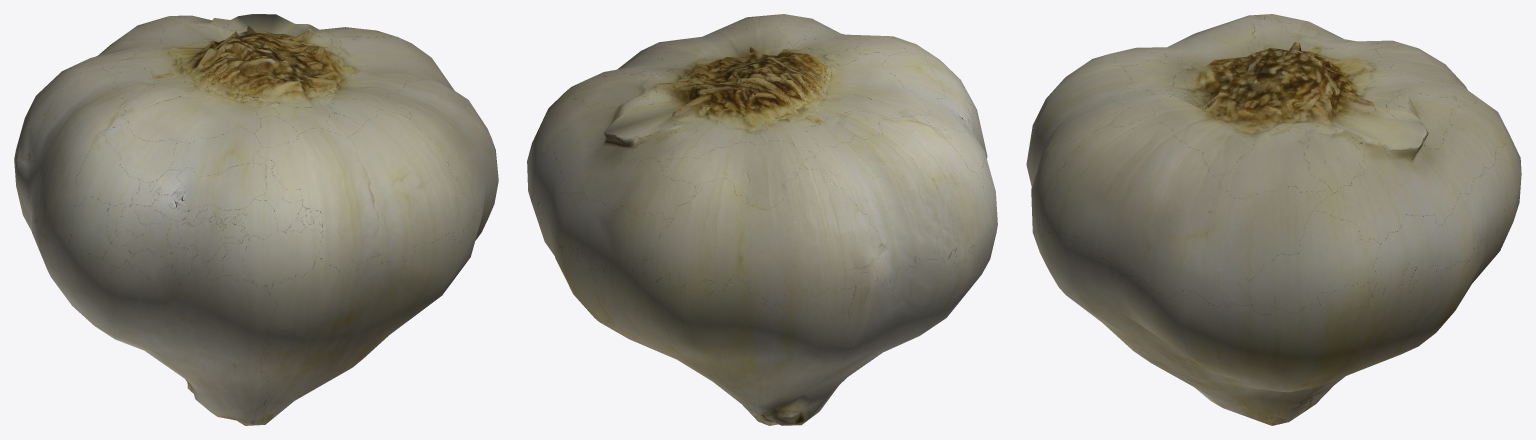
The model's file is GARLIC.fbx.
The picture shows the model from 3 angles, left to right: view 1: azimuth 30°, elevation 25°; view 2: azimuth 150°, elevation 25°; view 3: azimuth 270°, elevation 25°; orthographic projection. The views are drawn at different scales.
Parts seen in each view (by area): view 1: 37_garlic; view 2: 37_garlic; view 3: 37_garlic.
Part boxes in pixels (x1,y1,x2,y2): 37_garlic: (14, 14, 498, 425); 37_garlic: (527, 14, 997, 425); 37_garlic: (1026, 14, 1521, 425).
Bounding box in the file's own units: 39.28 × 32.02 × 39.49.
1 material, 1 textured.
